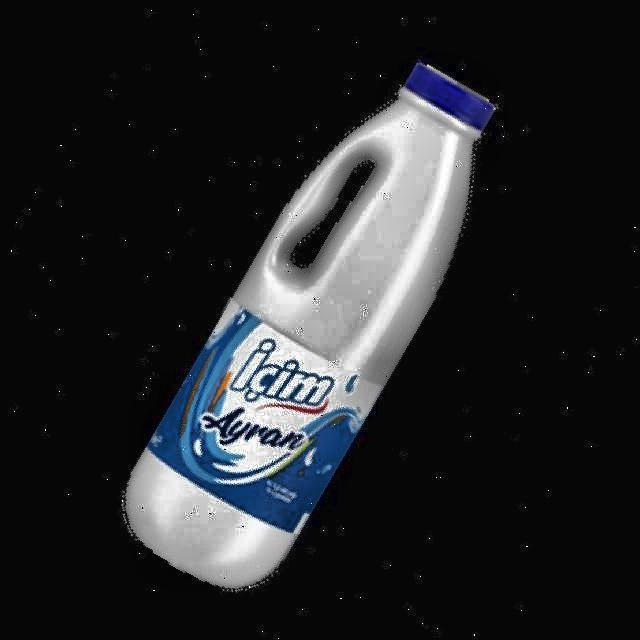plastic: (125, 65, 494, 588)
